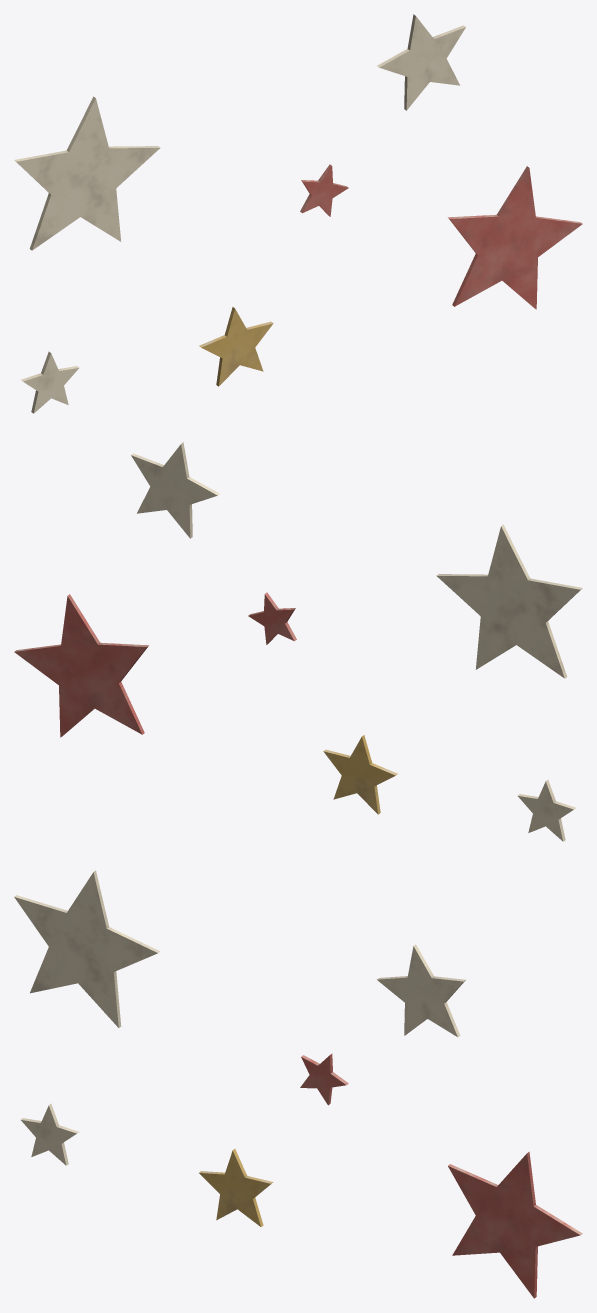
The model's file is star_decal.fbx.
3 views of the same model, one above another, from view 1: azimuth 30°, elevation 25°; view 2: azimuth 150°, elevation 25°; view 3: azimuth 330°, elevation 25° (orthographic).
Parts seen in each view (by area): view 1: Body; view 2: Body; view 3: Body.
Part boxes in pixels (x1,y1,x2,y2): Body: (14,14,582,413); Body: (14,442,582,841); Body: (14,870,582,1298).
Size of the model in its own units: 6.66 by 3.63 by 0.05.
1 material, 1 textured.
